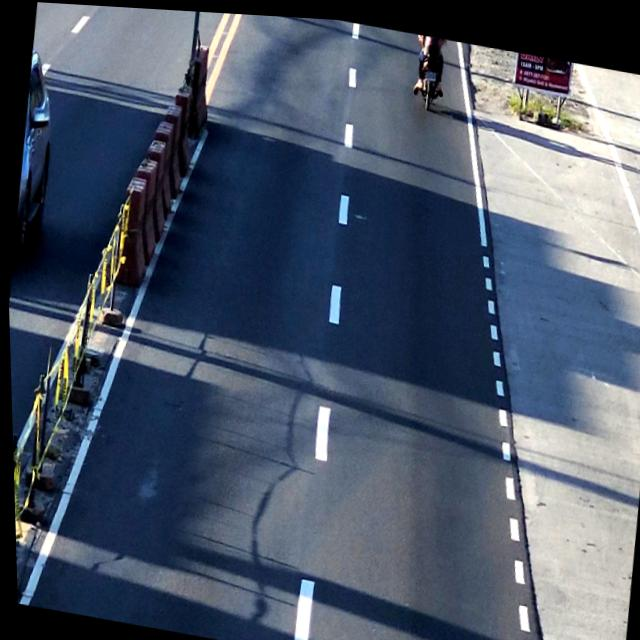Motorcycle: (411, 29, 452, 106)
